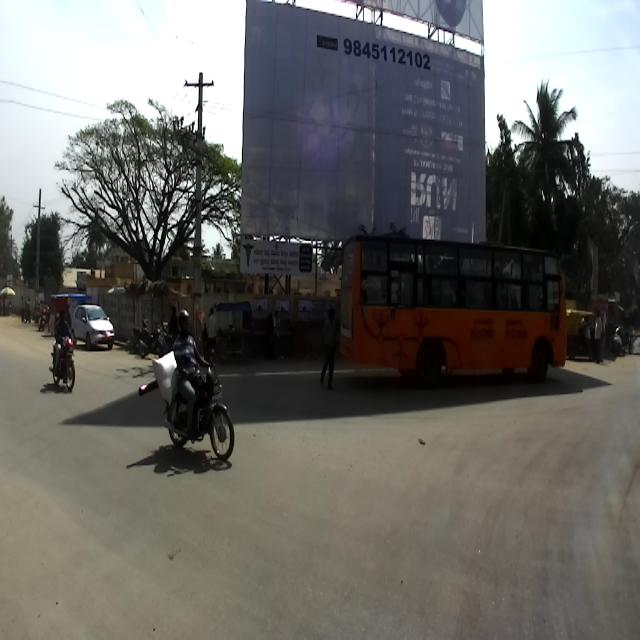bus ahead at: (334, 228, 580, 401)
motorcycle ahead at: (152, 365, 238, 472)
